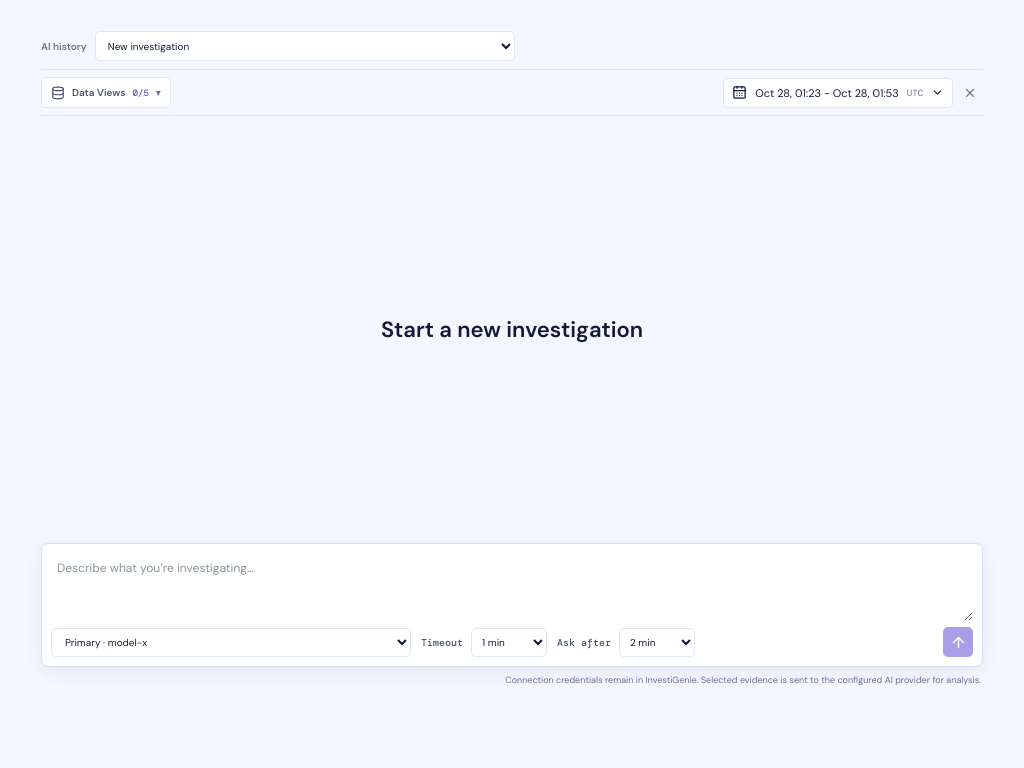
Scenario: InvestiGenieAIPage › does not turn insufficient evidence into an incident draft or an all-clear
The width and height of the screenshot is (1024, 768).
Expected: the dropdown named "AI model" is shown, [51,628,411,656]
Click the button with aria-label "Choose Data Views" at (106, 92), box [41,77,171,108]
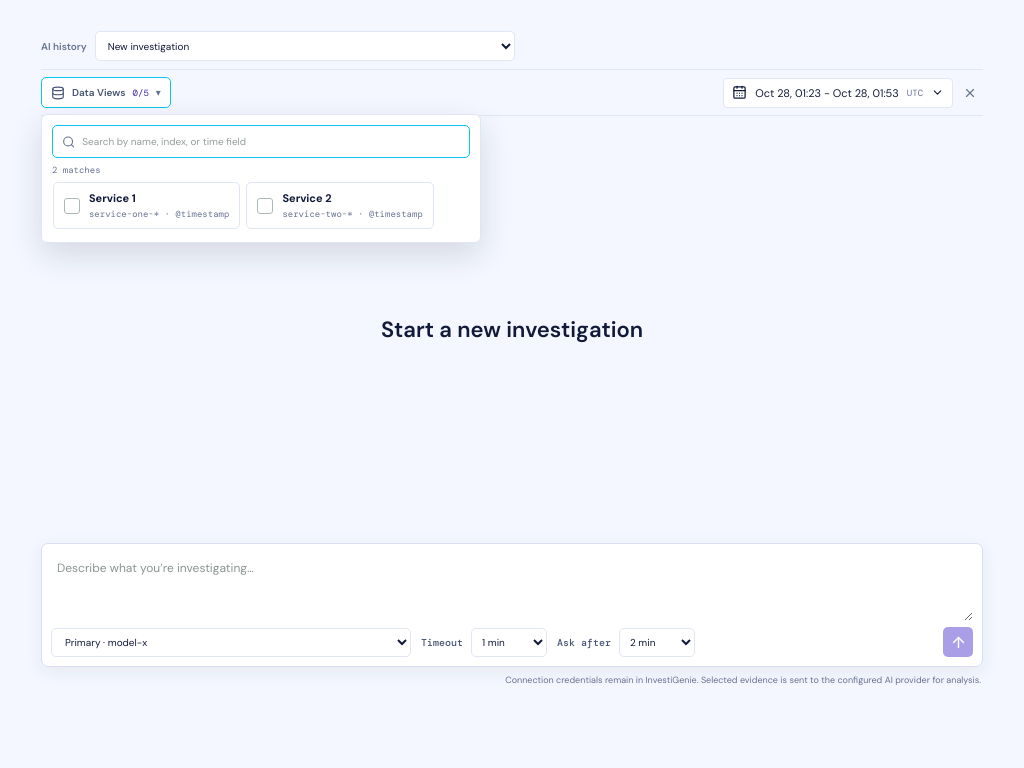
Click the checkbox labelled "Service 1 service-one-* · @timestamp" at (147, 206), box [53,182,240,229]
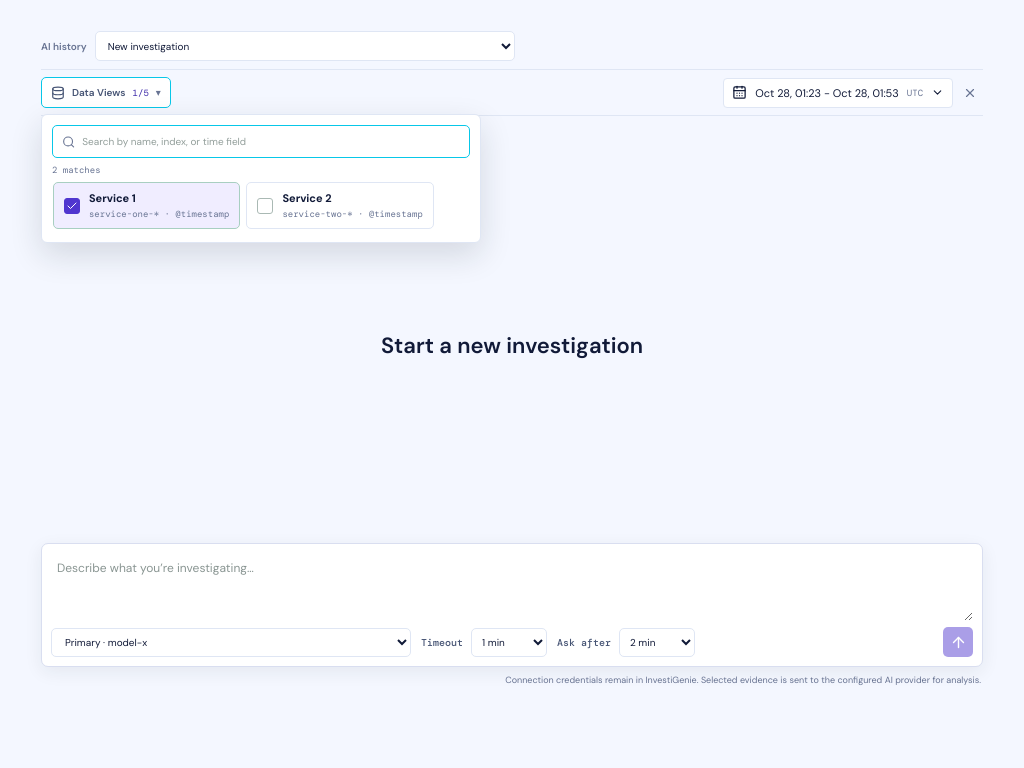
Type "Investigate errors" into the text box named "Ask InvestiGenie AI" at (512, 587), box [51,553,973,621]
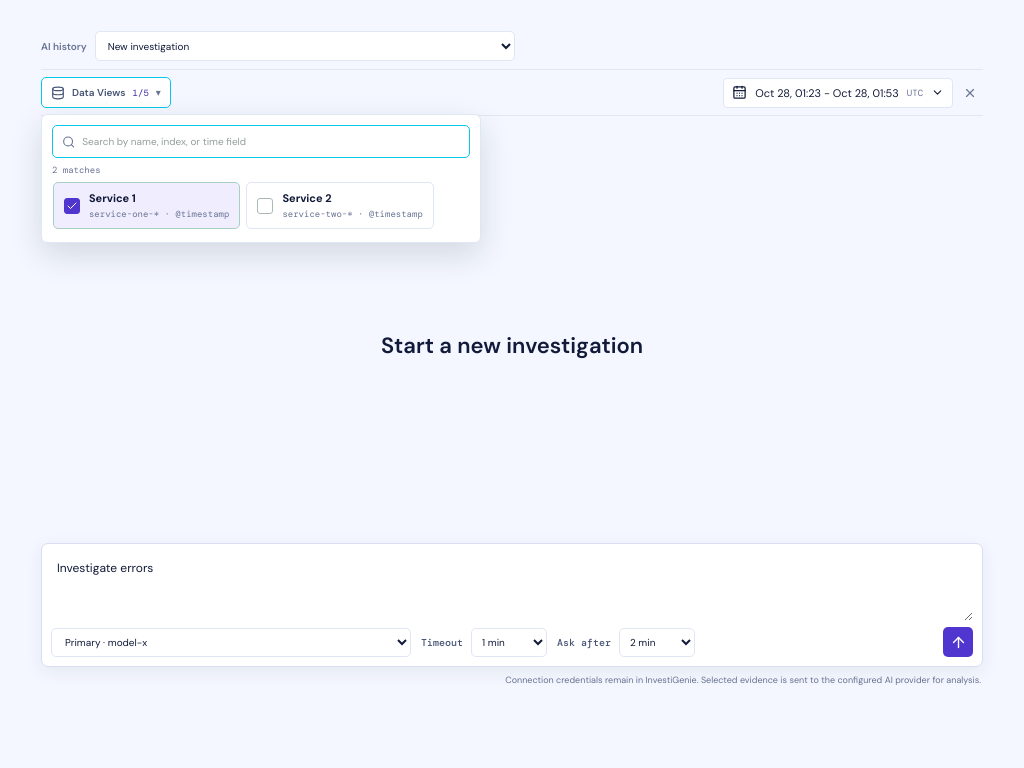
Click the button named "Run investigation" at (958, 642), box [943,627,973,657]
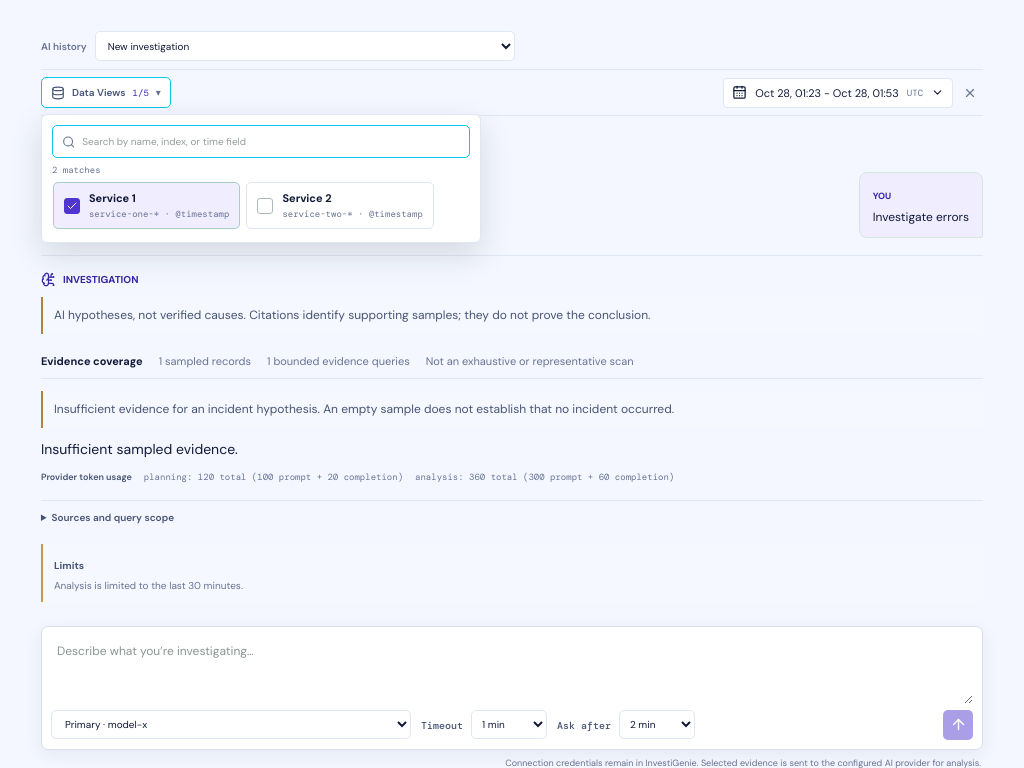
Now the text "An empty sample does not establish" is shown, box [54,401,674,417]
